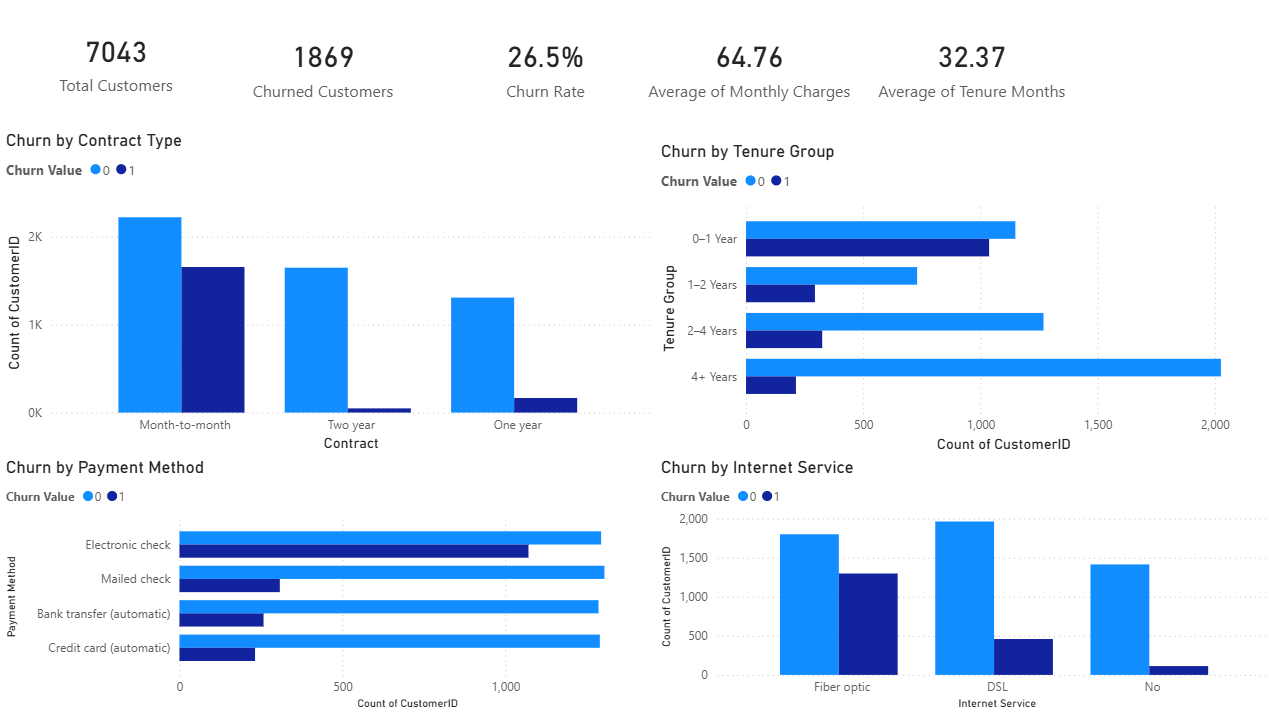

This screenshot's page, from the dashboard's own definition file:
{"tool":"powerbi","page":{"name":"Page 1","canvas":[1280,720],"ordinal":0},"visuals":[{"type":"card","fields":{"Values":["Telco_Churn.Total Customers"]},"box":[9.6,0,219.6,138.6],"z":0},{"type":"card","fields":{"Values":["Telco_Churn.Churned Customers"]},"box":[215.4,0,220.9,149.6],"z":1000},{"type":"card","fields":{"Values":["Telco_Churn.Churn Rate"]},"box":[436.4,0,220.9,149.6],"z":2000},{"type":"card","fields":{"Values":["Avg(Telco_Churn.Monthly Charges)"]},"box":[639.5,0,220.9,149.6],"z":3000},{"type":"card","fields":{"Values":["Avg(Telco_Churn.Tenure Months)"]},"box":[860.4,0,220.9,149.6],"z":4000},{"type":"clusteredColumnChart","title":"Churn by Contract Type","fields":{"Category":["Telco_Churn.Contract"],"Series":["Telco_Churn.Churn Value"],"Y":["CountNonNull(Telco_Churn.CustomerID)"]},"box":[5.5,138.6,651.8,325.2],"z":4001},{"type":"clusteredBarChart","title":"Churn by Payment Method","fields":{"Series":["Telco_Churn.Churn Value"],"Category":["Telco_Churn.Payment Method"],"Y":["CountNonNull(Telco_Churn.CustomerID)"]},"box":[5.5,463.8,651.8,256.6],"z":4003},{"type":"clusteredColumnChart","title":"Churn by Internet Service","fields":{"Category":["Telco_Churn.Internet Service"],"Series":["Telco_Churn.Churn Value"],"Y":["CountNonNull(Telco_Churn.CustomerID)"]},"box":[657.3,463.8,623,256.6],"z":4004},{"type":"clusteredBarChart","title":"Churn by Tenure Group","fields":{"Y":["CountNonNull(Telco_Churn.CustomerID)"],"Series":["Telco_Churn.Churn Value"],"Category":["Telco_Churn.Tenure Group"]},"box":[657.3,149.6,623,314.2],"z":4005}]}

Visuals, with their boxes in screenshot pixels (x1, y1, x2, y2), scaled from the page's 1280x720 canvas onto the 1269x714 screenshot:
card - Telco_Churn.Total Customers: 10:0:227:137
card - Telco_Churn.Churned Customers: 214:0:433:148
card - Telco_Churn.Churn Rate: 433:0:652:148
card - Avg(Telco_Churn.Monthly Charges): 634:0:853:148
card - Avg(Telco_Churn.Tenure Months): 853:0:1072:148
"Churn by Contract Type" clusteredColumnChart: 5:137:652:460
"Churn by Payment Method" clusteredBarChart: 5:460:652:713
"Churn by Internet Service" clusteredColumnChart: 652:460:1268:713
"Churn by Tenure Group" clusteredBarChart: 652:148:1268:460
